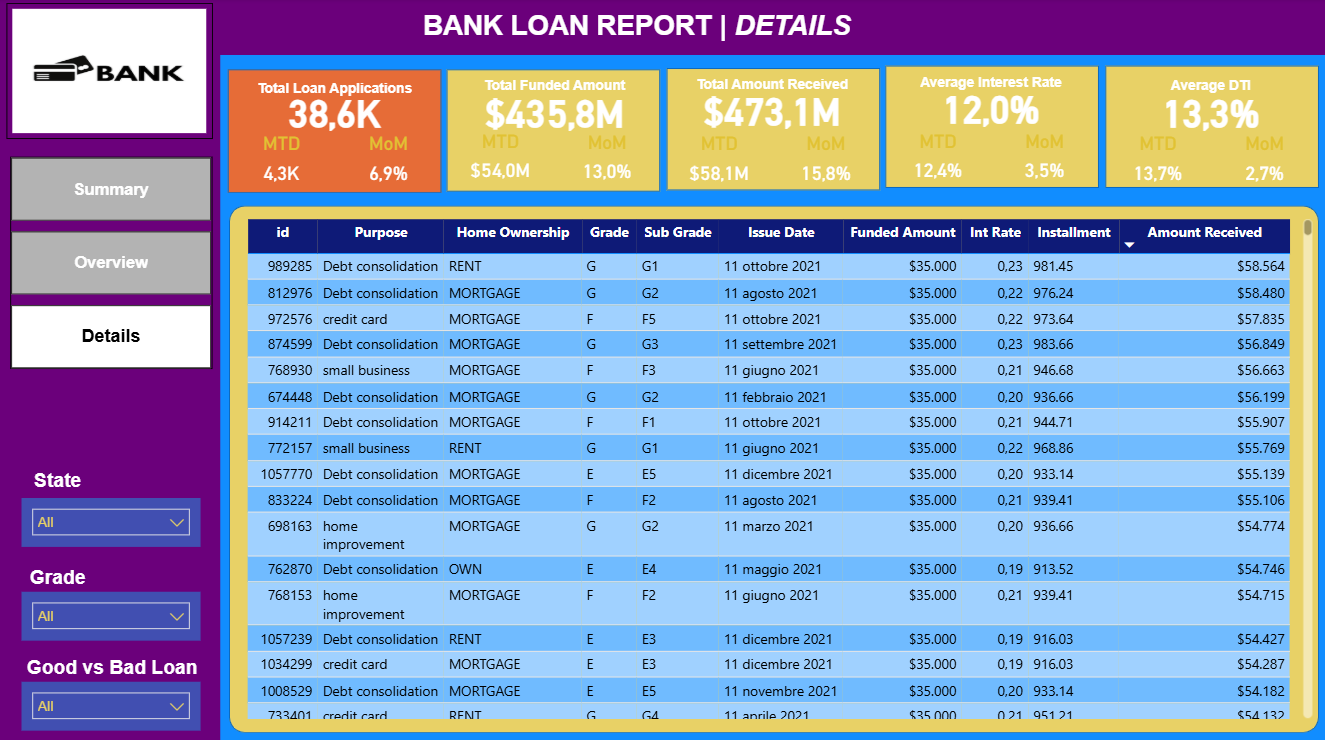

What the dashboard file says about the page in this screenshot:
{"tool":"powerbi","page":{"name":"Details","canvas":[1280,720],"ordinal":2},"visuals":[{"type":"shape","box":[220.7,68.6,206.3,119.4],"z":0,"group":"g2"},{"type":"group","id":"g1","title":"Group 2","box":[431.7,69.3,206.3,118.3],"z":0,"group":"g6"},{"type":"shape","box":[222,200.3,1052,509.1],"z":0},{"type":"shape","box":[0,27.7,213.5,692.5],"z":1000},{"type":"shape","box":[0,0,1280,55],"z":2000},{"type":"textbox","box":[404.2,7.2,470.5,48.3],"z":3000},{"type":"shape","box":[1067.2,65.3,206.3,118.2],"z":4000},{"type":"card","fields":{"Values":["bank_loan_data.Total Loan Applications"]},"box":[220.7,77.3,206.3,62],"z":4000,"group":"g2"},{"type":"card","title":"MoM","fields":{"Values":["bank_loan_data.MoM Funded"]},"box":[535.6,129.9,102.4,57.7],"z":4000,"group":"g6"},{"type":"group","id":"g2","title":"Group 1","box":[220.7,68.6,206.3,119.4],"z":5000},{"type":"textbox","box":[220.7,72.2,206.3,30.2],"z":5000,"group":"g2"},{"type":"group","id":"g3","title":"Group 3","box":[642.7,67.2,207.2,120],"z":6000},{"type":"card","title":"MTD","fields":{"Values":["bank_loan_data.MTD Loan Applications"]},"box":[220.7,130.1,103.8,57.9],"z":6000,"group":"g2"},{"type":"group","id":"g4","title":"Group 4","box":[854.5,65.7,207.2,120],"z":7000},{"type":"card","title":"MoM","fields":{"Values":["bank_loan_data.MoM"]},"box":[324.5,130.1,102.5,57.9],"z":7000,"group":"g2"},{"type":"shape","box":[431.7,69.3,206.3,118.2],"z":8000,"group":"g1"},{"type":"group","id":"g5","title":"Group 5","box":[1066.3,69.5,206.3,118.3],"z":8000},{"type":"group","id":"g6","title":"Group 6","box":[431.7,69.3,206.3,118.3],"z":9000},{"type":"card","fields":{"Values":["bank_loan_data.Total Funded AMount"]},"box":[432.3,78,206.3,62],"z":9000,"group":"g1"},{"type":"textbox","box":[432.3,70.8,206.3,30.3],"z":10000,"group":"g1"},{"type":"slicer","fields":{"Values":["bank_loan_data.address_state"]},"box":[22,482.8,172.5,47.1],"z":10000},{"type":"card","title":"MTD","fields":{"Values":["bank_loan_data.MTD Funded Amount"]},"box":[431.7,128.4,103.8,57.9],"z":11000,"group":"g1"},{"type":"textbox","box":[22,450.2,70,32.6],"z":11000},{"type":"slicer","fields":{"Values":["bank_loan_data.grade"]},"box":[22,573.3,172.5,47.1],"z":12000},{"type":"shape","box":[643.6,67.2,206.3,118.2],"z":13000,"group":"g3"},{"type":"textbox","box":[22,544.3,70,32.6],"z":13000},{"type":"card","fields":{"Values":["bank_loan_data.Total Amount Received"]},"box":[642.7,76.1,206.3,62],"z":14000,"group":"g3"},{"type":"slicer","fields":{"Values":["bank_loan_data.Good vs Bad Loans"]},"box":[22,660.2,172.5,47.1],"z":14000},{"type":"textbox","box":[642.7,68.9,206.3,30.3],"z":15000,"group":"g3"},{"type":"textbox","box":[22,631.2,182.2,32.6],"z":15000},{"type":"card","title":"MTD","fields":{"Values":["bank_loan_data.MTD Received"]},"box":[642.7,129.5,103.9,57.7],"z":16000,"group":"g3"},{"type":"card","title":"MoM","fields":{"Values":["bank_loan_data.MoM Received"]},"box":[746.6,129.5,102.4,57.7],"z":17000,"group":"g3"},{"type":"shape","box":[855.4,65.7,206.3,118.2],"z":18000,"group":"g4"},{"type":"tableEx","fields":{"Values":["bank_loan_data.id","bank_loan_data.purpose","bank_loan_data.home_ownership","bank_loan_data.grade","bank_loan_data.sub_grade","bank_loan_data.issue_date","bank_loan_data.Total Funded Amount","Sum(bank_loan_data.int_rate)","bank_loan_data.installment","bank_loan_data.Total Amount Received"]},"box":[234,208.7,1038.7,491],"z":18000},{"type":"card","fields":{"Values":["bank_loan_data.AVG IntRate"]},"box":[854.5,74.6,206.3,62],"z":19000,"group":"g4"},{"type":"image","box":[7.2,4.8,199.1,131.5],"z":19001},{"type":"pageNavigator","box":[10.9,153.2,195.4,205.1],"z":19002},{"type":"textbox","box":[854.5,67.4,206.3,30.3],"z":20000,"group":"g4"},{"type":"card","title":"MTD","fields":{"Values":["bank_loan_data.MTD AVG"]},"box":[854.5,128,103.9,57.7],"z":21000,"group":"g4"},{"type":"card","title":"MoM","fields":{"Values":["bank_loan_data.MoM AVG"]},"box":[958.4,128,102.4,57.7],"z":22000,"group":"g4"},{"type":"card","fields":{"Values":["bank_loan_data.AVG DTI"]},"box":[1066.3,76.7,206.3,62],"z":24000,"group":"g5"},{"type":"textbox","box":[1066.3,69.5,206.3,30.3],"z":25000,"group":"g5"},{"type":"card","title":"MTD","fields":{"Values":["bank_loan_data.MTD ADTI"]},"box":[1066.3,130.1,103.9,57.7],"z":26000,"group":"g5"},{"type":"card","title":"MoM","fields":{"Values":["bank_loan_data.MoM ADTI"]},"box":[1170.2,130.1,102.4,57.7],"z":27000,"group":"g5"}]}

Visuals, with their boxes in screenshot pixels (x1, y1, x2, y2), scaled from the page's 1280x720 canvas onto the 1325x740 screenshot:
shape: BBox(228, 71, 442, 193)
"Group 2" group: BBox(447, 71, 660, 193)
shape: BBox(230, 206, 1319, 729)
shape: BBox(0, 28, 221, 739)
shape: BBox(0, 0, 1324, 57)
textbox: BBox(418, 7, 905, 57)
shape: BBox(1105, 67, 1318, 189)
card - bank_loan_data.Total Loan Applications: BBox(228, 79, 442, 143)
"MoM" card: BBox(554, 134, 660, 193)
"Group 1" group: BBox(228, 71, 442, 193)
textbox: BBox(228, 74, 442, 105)
"Group 3" group: BBox(665, 69, 880, 192)
"MTD" card: BBox(228, 134, 336, 193)
"Group 4" group: BBox(885, 68, 1099, 191)
"MoM" card: BBox(336, 134, 442, 193)
shape: BBox(447, 71, 660, 193)
"Group 5" group: BBox(1104, 71, 1317, 193)
"Group 6" group: BBox(447, 71, 660, 193)
card - bank_loan_data.Total Funded AMount: BBox(447, 80, 661, 144)
textbox: BBox(447, 73, 661, 104)
slicer - bank_loan_data.address_state: BBox(23, 496, 201, 545)
"MTD" card: BBox(447, 132, 554, 191)
textbox: BBox(23, 463, 95, 496)
slicer - bank_loan_data.grade: BBox(23, 589, 201, 638)
shape: BBox(666, 69, 880, 191)
textbox: BBox(23, 559, 95, 593)
card - bank_loan_data.Total Amount Received: BBox(665, 78, 879, 142)
slicer - bank_loan_data.Good vs Bad Loans: BBox(23, 679, 201, 727)
textbox: BBox(665, 71, 879, 102)
textbox: BBox(23, 649, 211, 682)
"MTD" card: BBox(665, 133, 773, 192)
"MoM" card: BBox(773, 133, 879, 192)
shape: BBox(885, 68, 1099, 189)
tableEx - bank_loan_data.id x bank_loan_data.purpose: BBox(242, 214, 1317, 719)
card - bank_loan_data.AVG IntRate: BBox(885, 77, 1098, 140)
image: BBox(7, 5, 214, 140)
pageNavigator: BBox(11, 157, 214, 368)
textbox: BBox(885, 69, 1098, 100)
"MTD" card: BBox(885, 132, 992, 191)
"MoM" card: BBox(992, 132, 1098, 191)
card - bank_loan_data.AVG DTI: BBox(1104, 79, 1317, 143)
textbox: BBox(1104, 71, 1317, 103)
"MTD" card: BBox(1104, 134, 1211, 193)
"MoM" card: BBox(1211, 134, 1317, 193)
